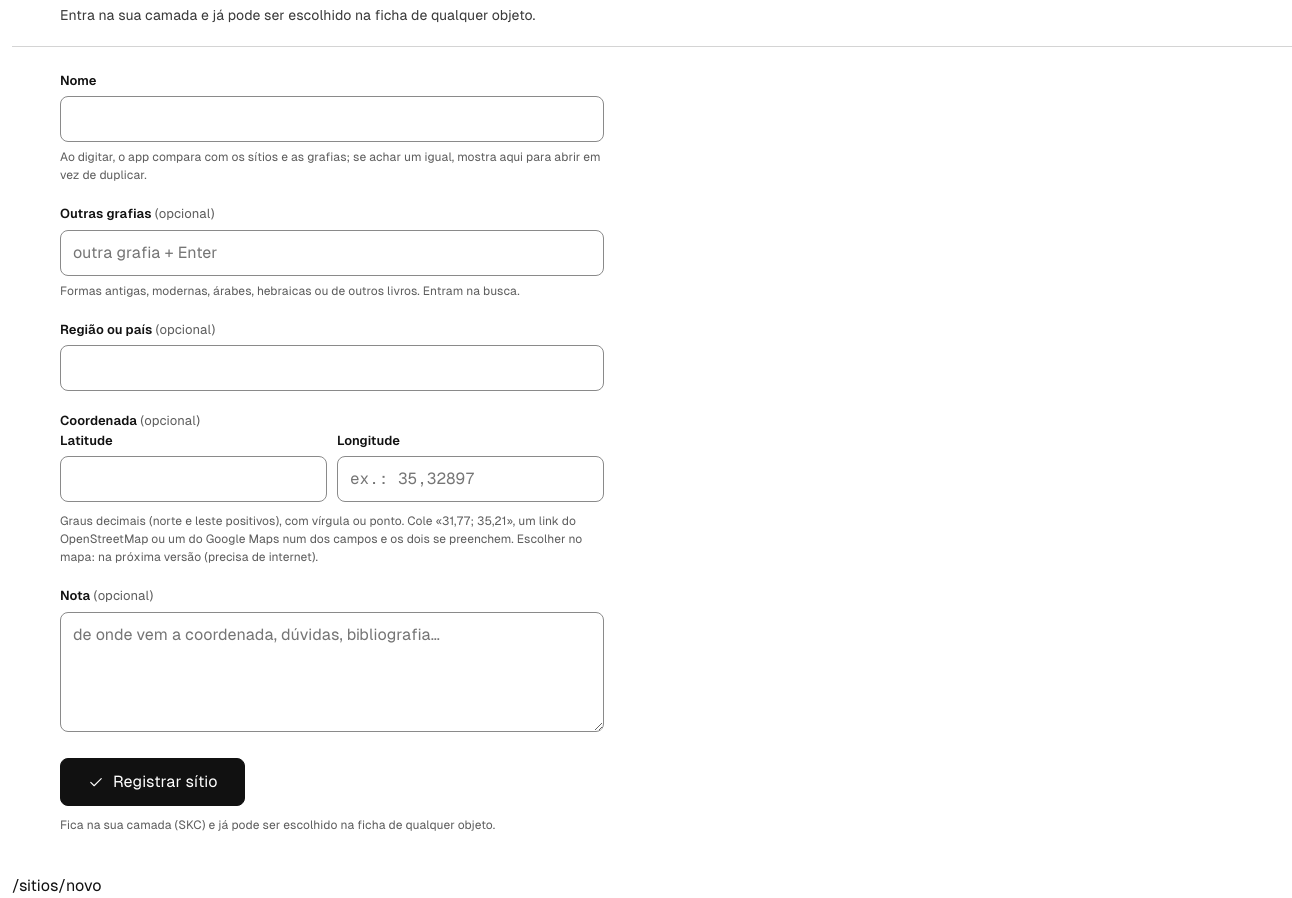
Novo sítio: registrar › sem nome: o erro em linha, o foco no campo, nada gravado
(page scrolled)
Click the button "Registrar sítio": x=152, y=782 [60,758,244,806]
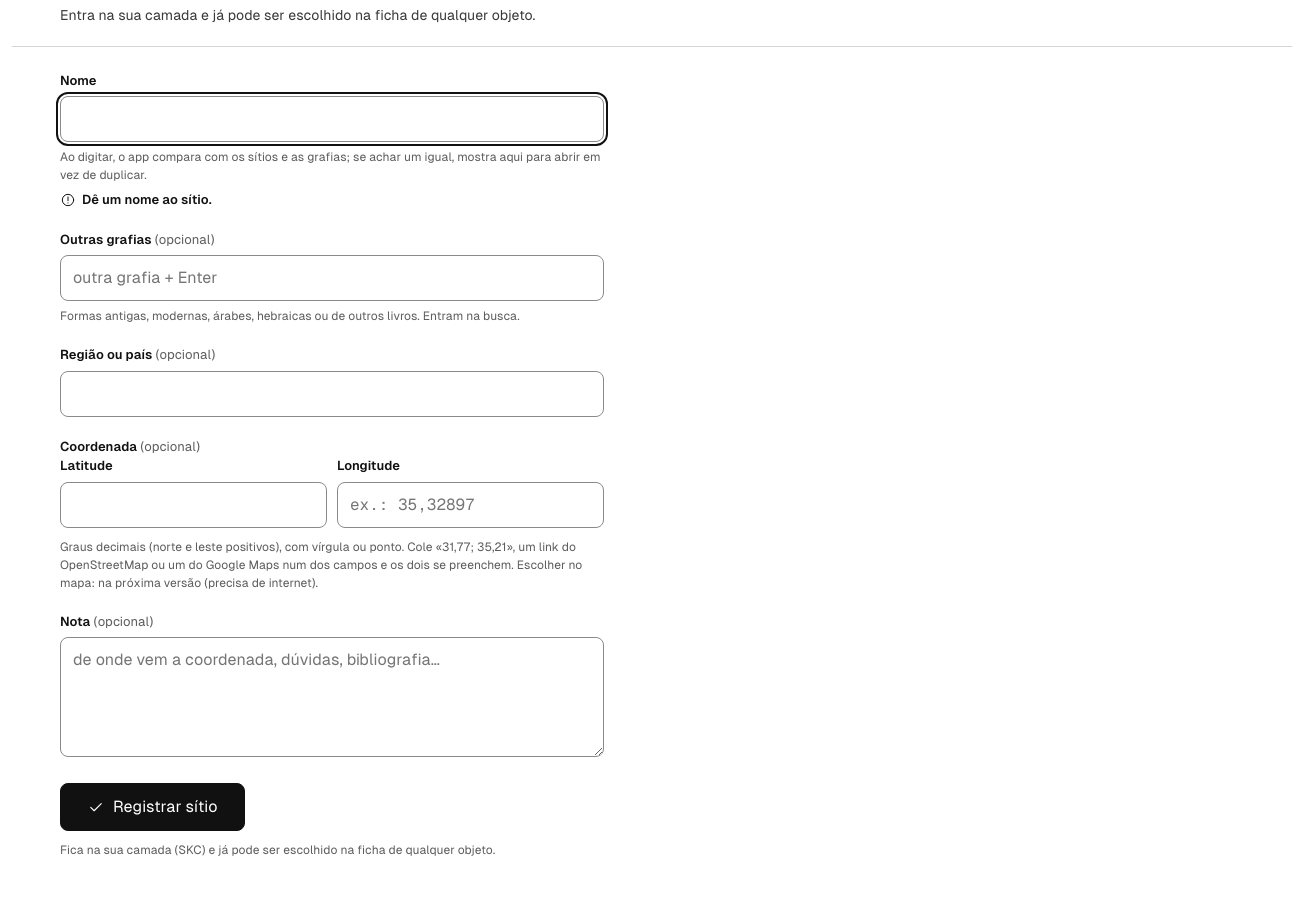
Now the message reads "Dê um nome ao sítio.", box [82,192,212,207]
